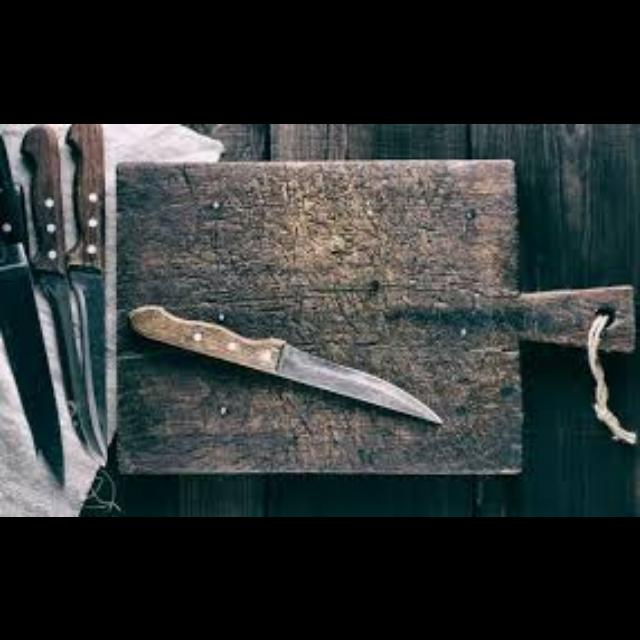knife: (128, 302, 442, 422), (18, 123, 88, 454), (0, 130, 64, 486), (63, 123, 107, 463)
